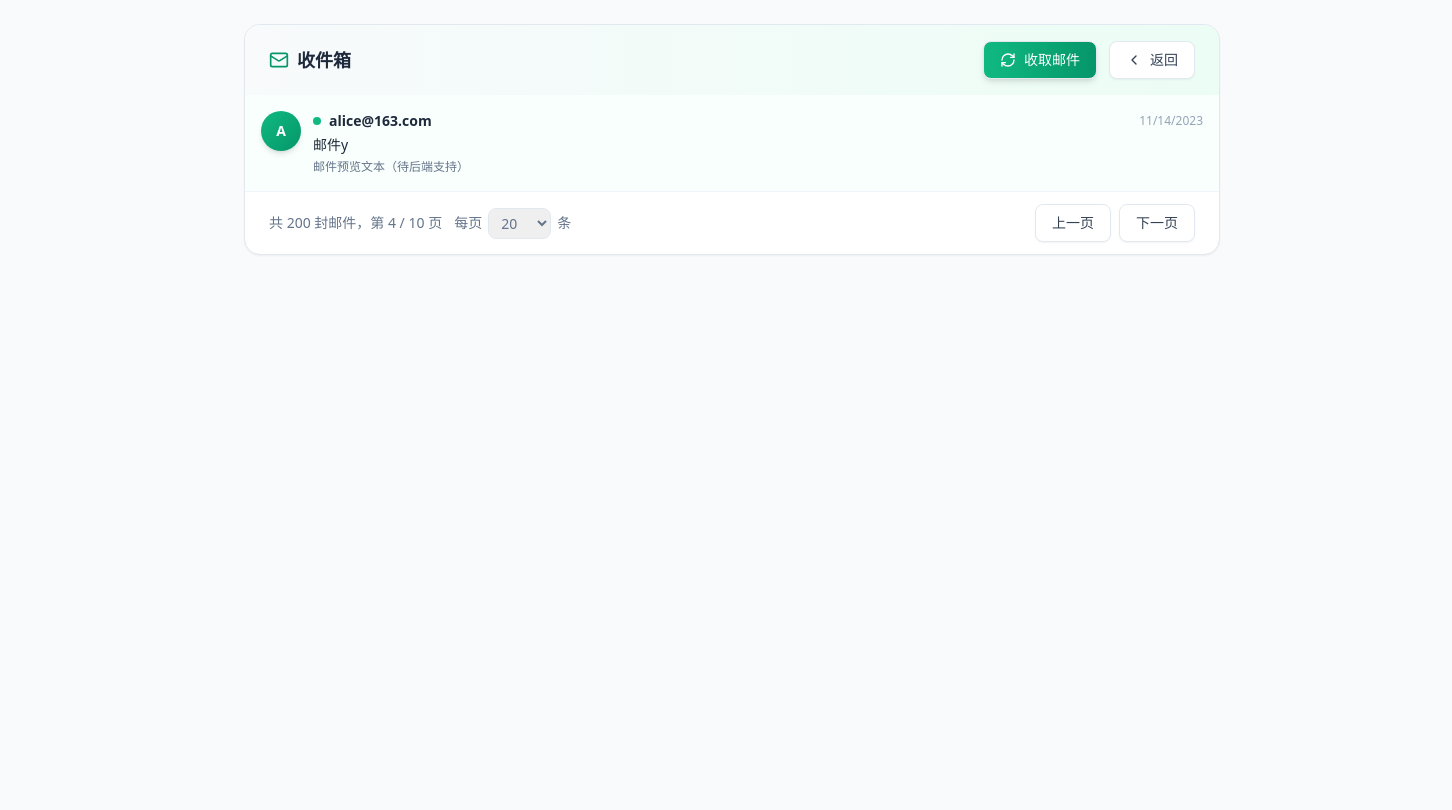
MailListPage › 改每页条数把 page 重置为 1 并写入 size
Select "50" in the dropdown named "每页条数" at (520, 223), box [488, 208, 551, 238]
(page scrolled)
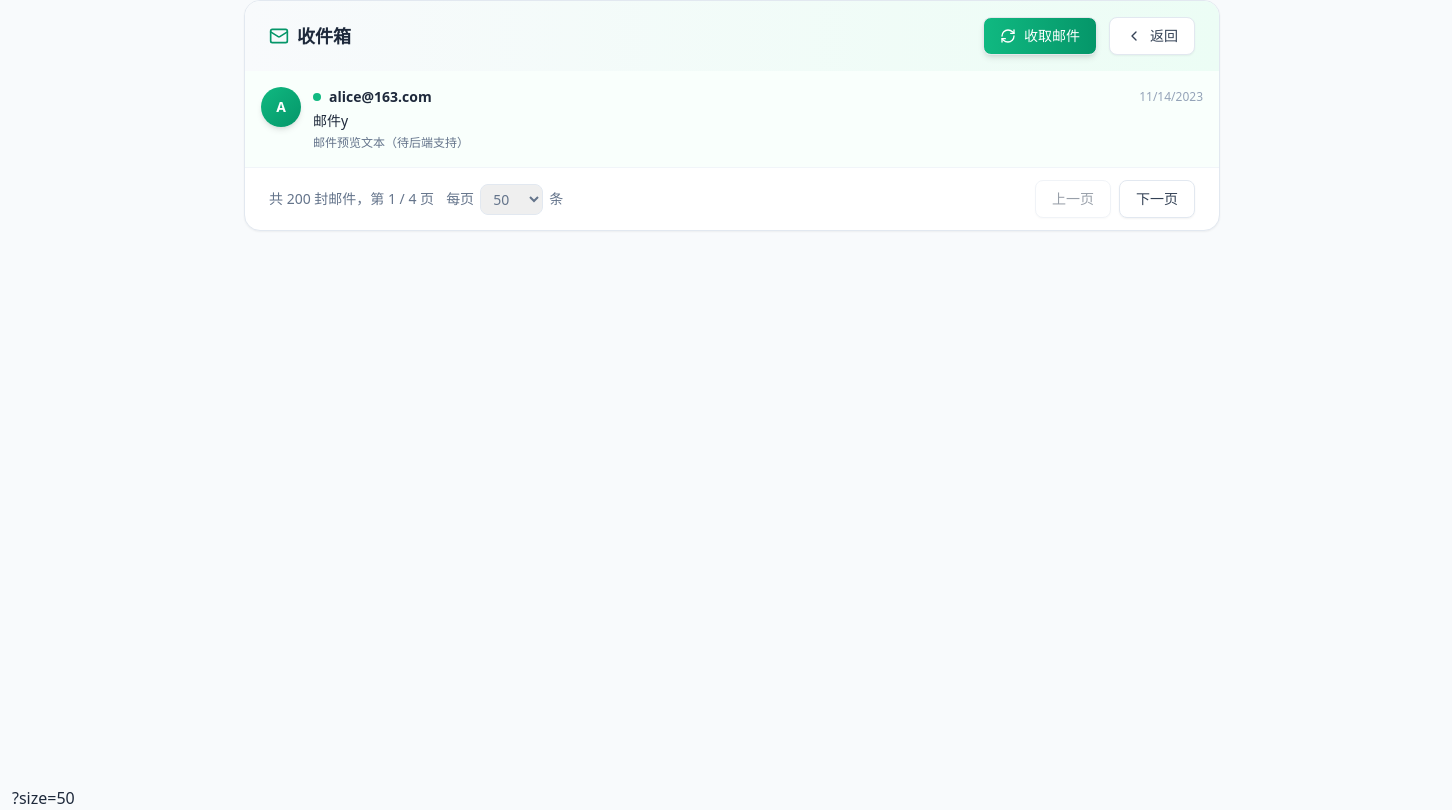
Expected: the text with test id "search" shows "size=50", [12, 787, 75, 809]
